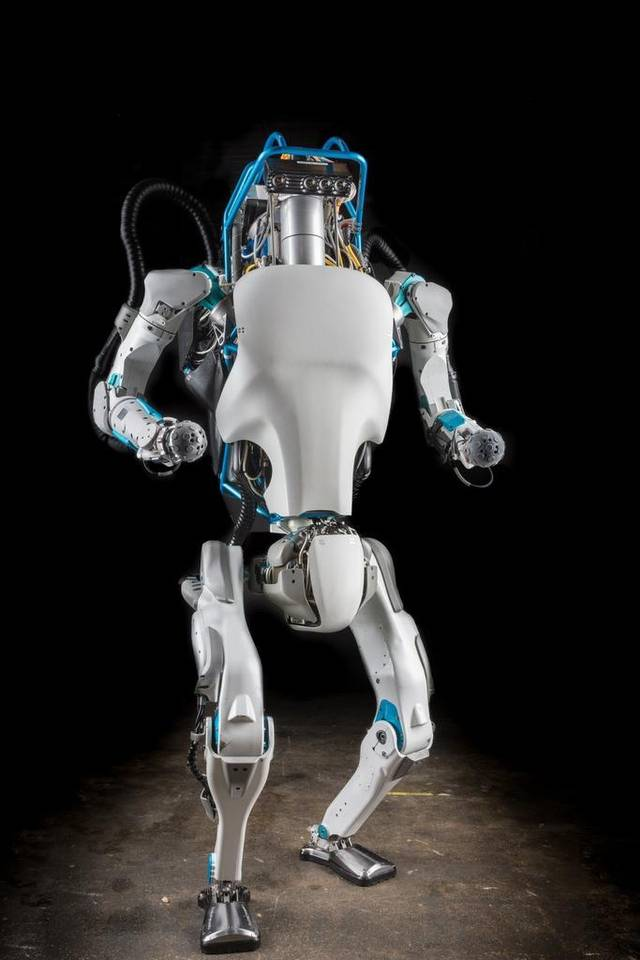person-like: (85, 122, 512, 959)
